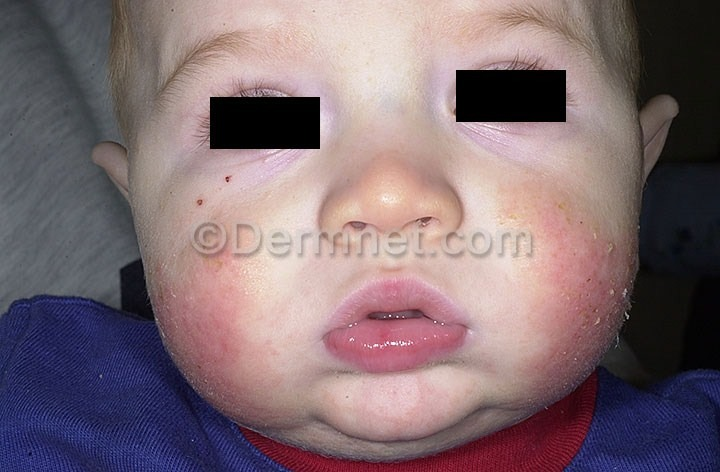Eczema: (512, 172, 642, 398), (148, 226, 258, 424), (332, 381, 455, 435), (183, 190, 208, 215), (220, 169, 237, 188)
